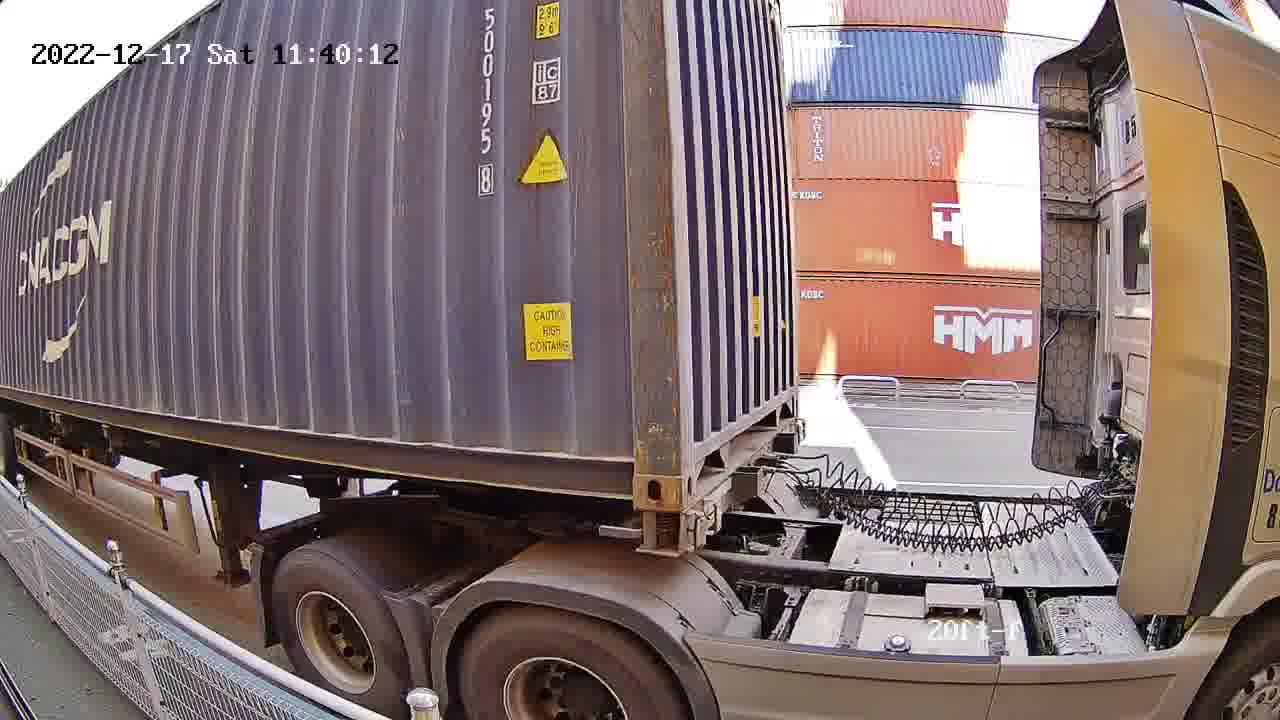Chassis: (687, 416, 802, 556)
Cone: (629, 510, 688, 555)
Hole_L: (683, 409, 718, 506)
Hole_R: (606, 432, 682, 510)
Tire: (458, 609, 676, 714), (270, 555, 412, 711)
